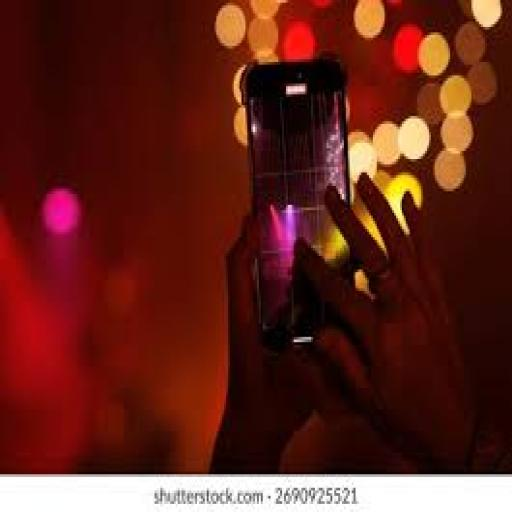phone: (244, 58, 381, 370)
